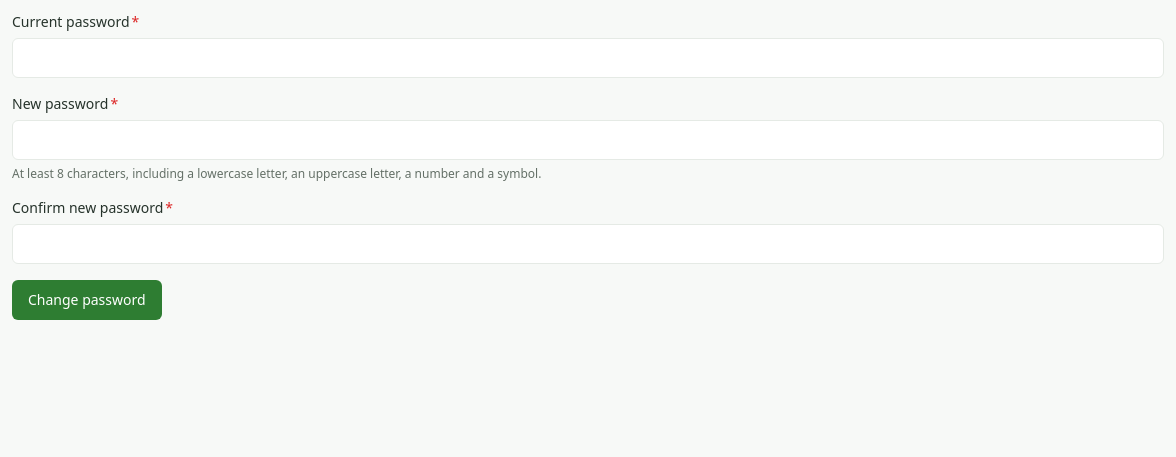
Test: ChangePasswordForm › surfaces a server validation error on the field
Type "WrongPass!1" into the password field labelled "Current password*" at (588, 58), box [12,38,1164,78]
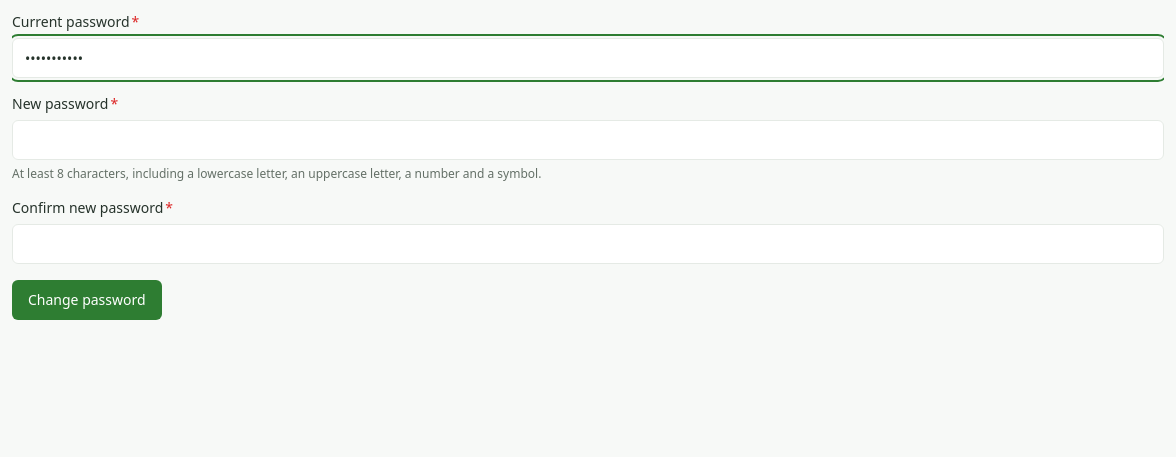
Type "Str0ng!pass" into the password field labelled "New password*" at (588, 140), box [12,120,1164,160]
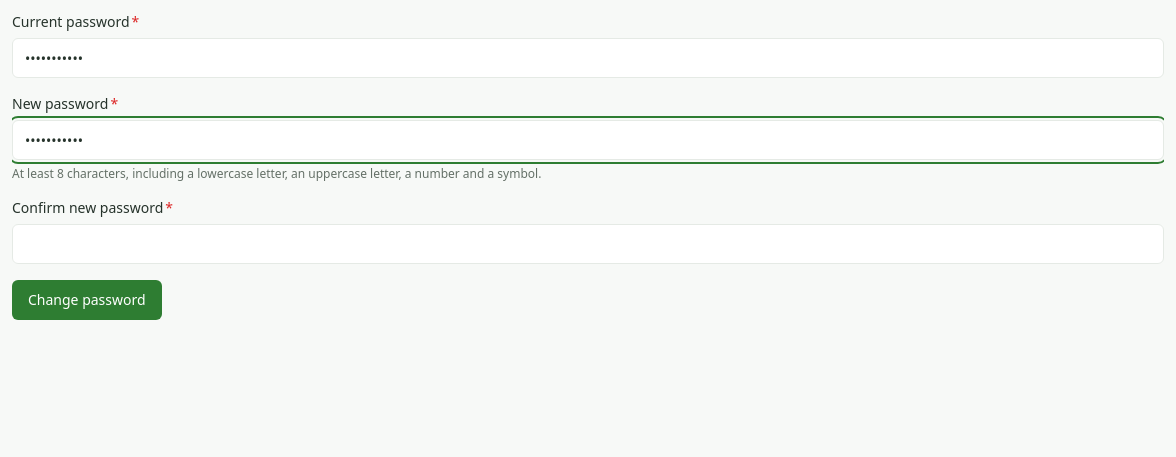
Type "Str0ng!pass" into the password field labelled "Confirm new password*" at (588, 244), box [12,224,1164,264]
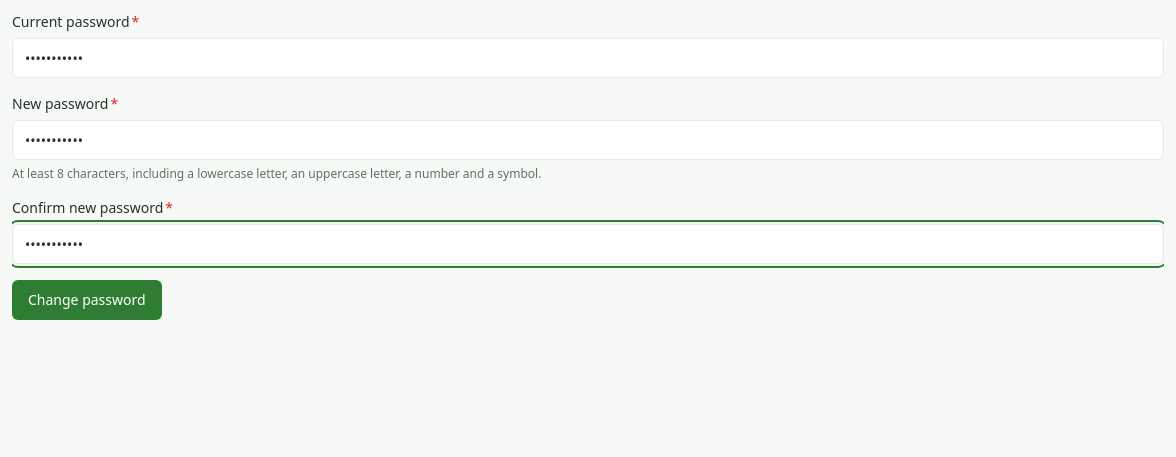
Click the button "Change password" at (87, 300), box [12,280,162,320]
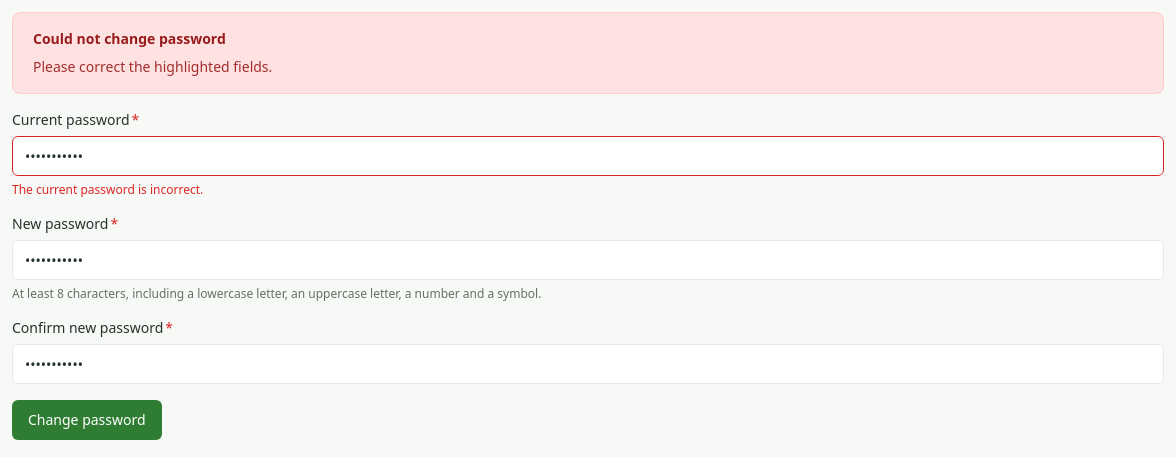
Check: the text "The current password is incorrect." is shown, box [12,181,203,198]
